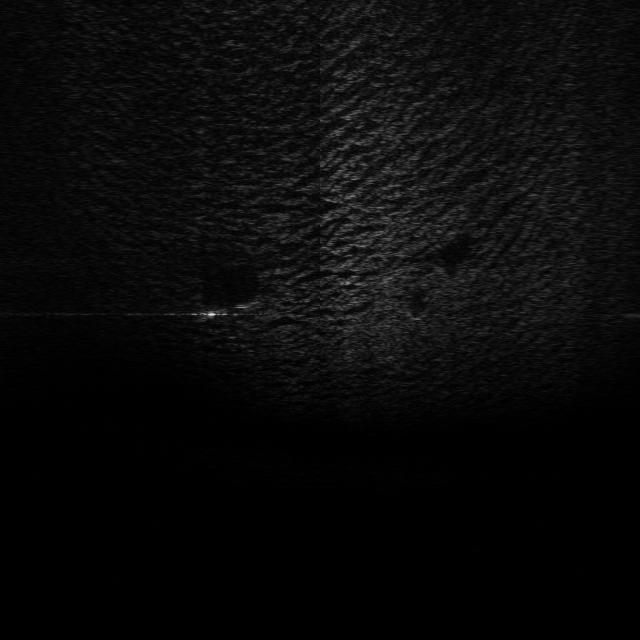plane: (192, 295, 268, 324)
